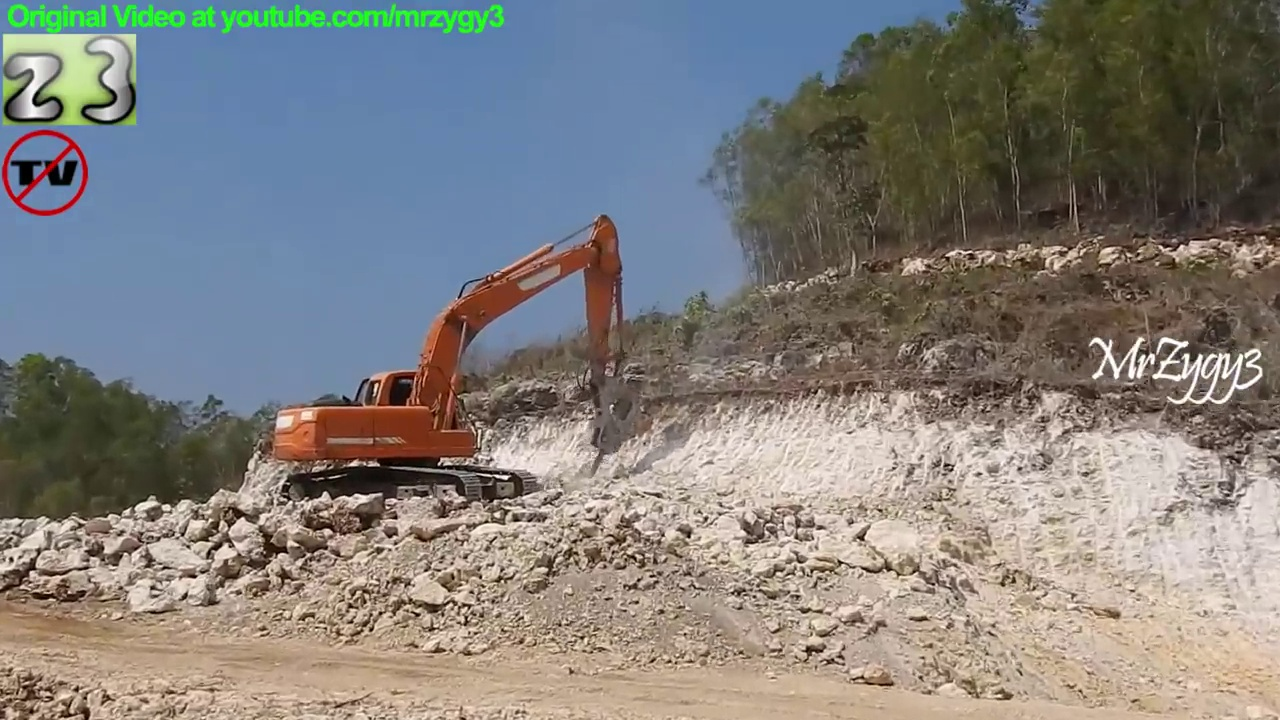excavator breaker: (271, 210, 641, 507)
